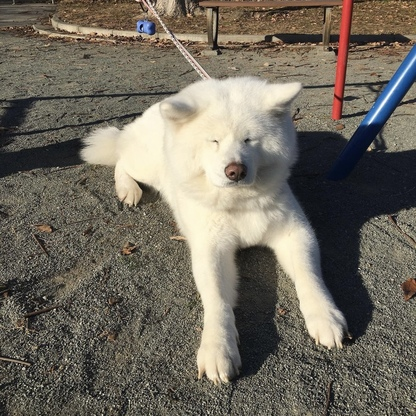akita: (74, 71, 357, 388)
